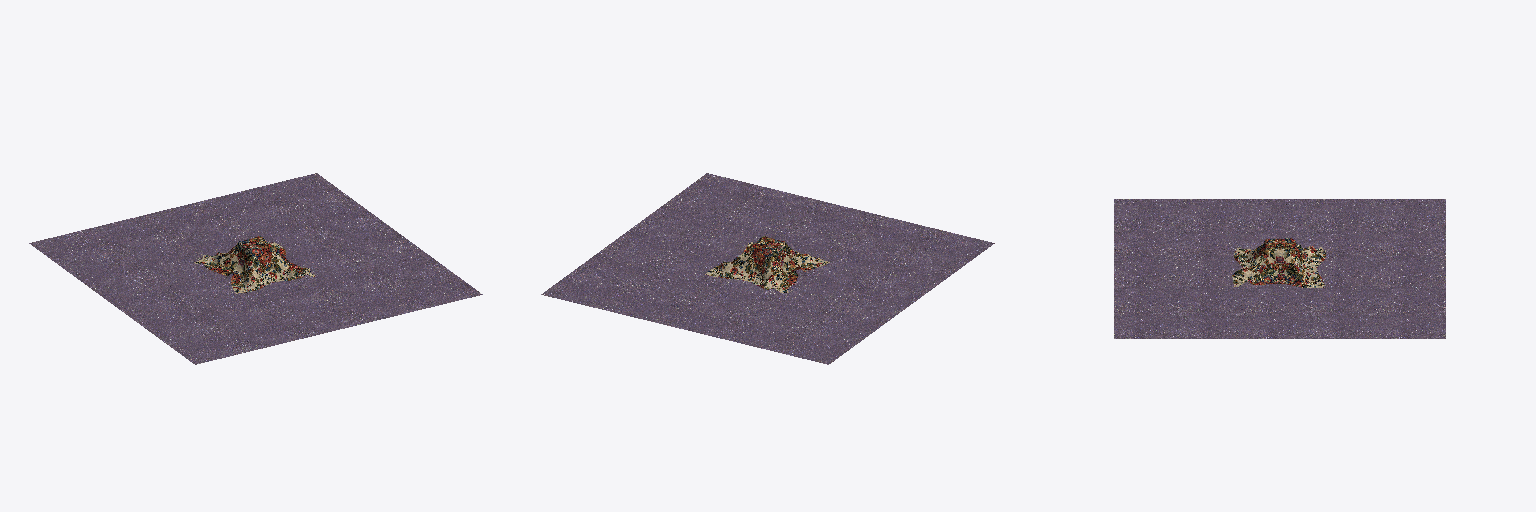
3 views of the same model, side by side, from view 1: azimuth 30°, elevation 25°; view 2: azimuth 150°, elevation 25°; view 3: azimuth 270°, elevation 25° (orthographic).
Visible parts, largest first — view 1: Plane.001, Plane; view 2: Plane.001, Plane; view 3: Plane.001, Plane.
Part boxes in pixels (x1,y1,x2,y2): Plane.001: (29, 173, 482, 364); Plane: (194, 236, 315, 293); Plane.001: (541, 173, 994, 364); Plane: (705, 236, 829, 292); Plane.001: (1114, 199, 1445, 338); Plane: (1232, 238, 1325, 287).
Bounding box in the file's own units: 24.91 × 2.18 × 24.91.
3 materials, 2 textured.